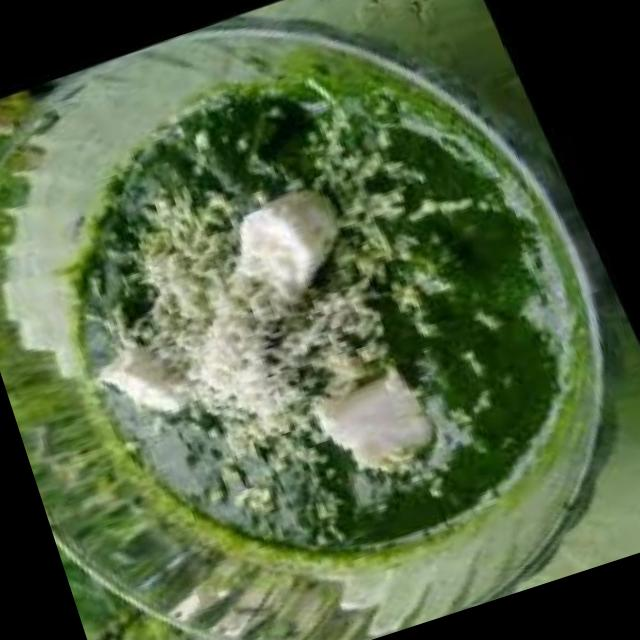palak_paneer: (5, 2, 640, 623)
